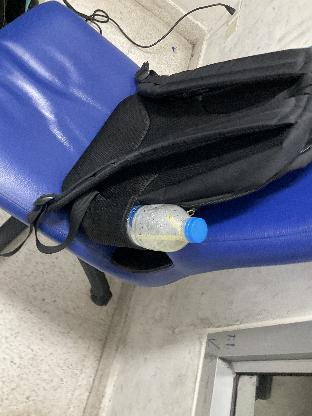Plastic Bottle: (122, 201, 210, 253)
